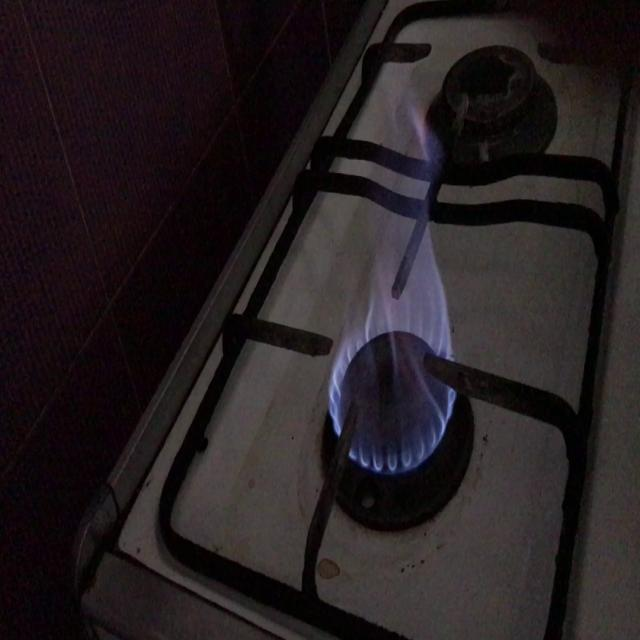Fire: (320, 101, 466, 497)
